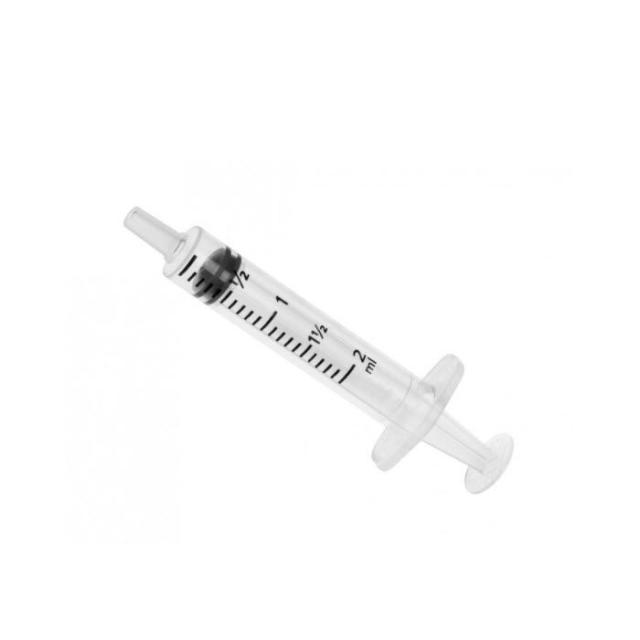syringe: (121, 203, 514, 495)
